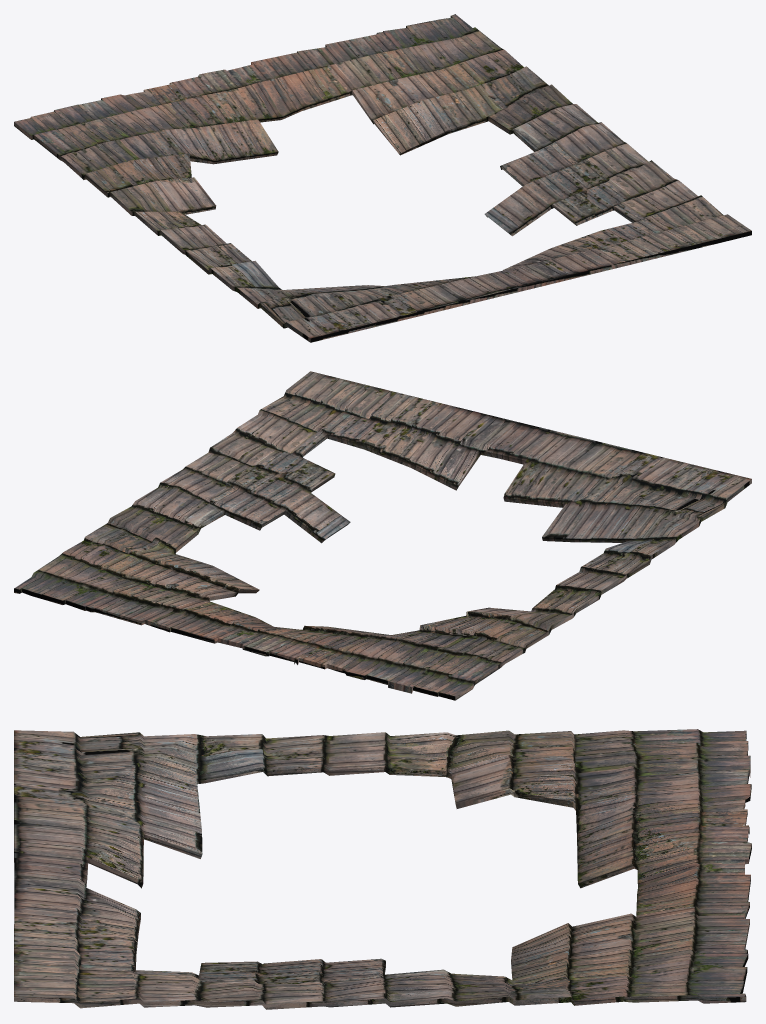
File: SM_OldCeramicRoofTiles_01_10.fbx
The picture shows the model from 3 angles, top to bottom: view 1: azimuth 30°, elevation 25°; view 2: azimuth 150°, elevation 25°; view 3: azimuth 270°, elevation 25°; orthographic projection. The views are drawn at different scales.
Parts seen in each view (by area): view 1: sm_OldCeramicRoofTiles_01_10_LOD0; view 2: sm_OldCeramicRoofTiles_01_10_LOD0; view 3: sm_OldCeramicRoofTiles_01_10_LOD0.
Boxes of the visible parts, left/top/right/bottom form: sm_OldCeramicRoofTiles_01_10_LOD0: left=14, top=14, right=751, bottom=342; sm_OldCeramicRoofTiles_01_10_LOD0: left=14, top=371, right=751, bottom=700; sm_OldCeramicRoofTiles_01_10_LOD0: left=14, top=729, right=751, bottom=1009.
Size of the model in its own units: 703 by 600 by 61.26.
